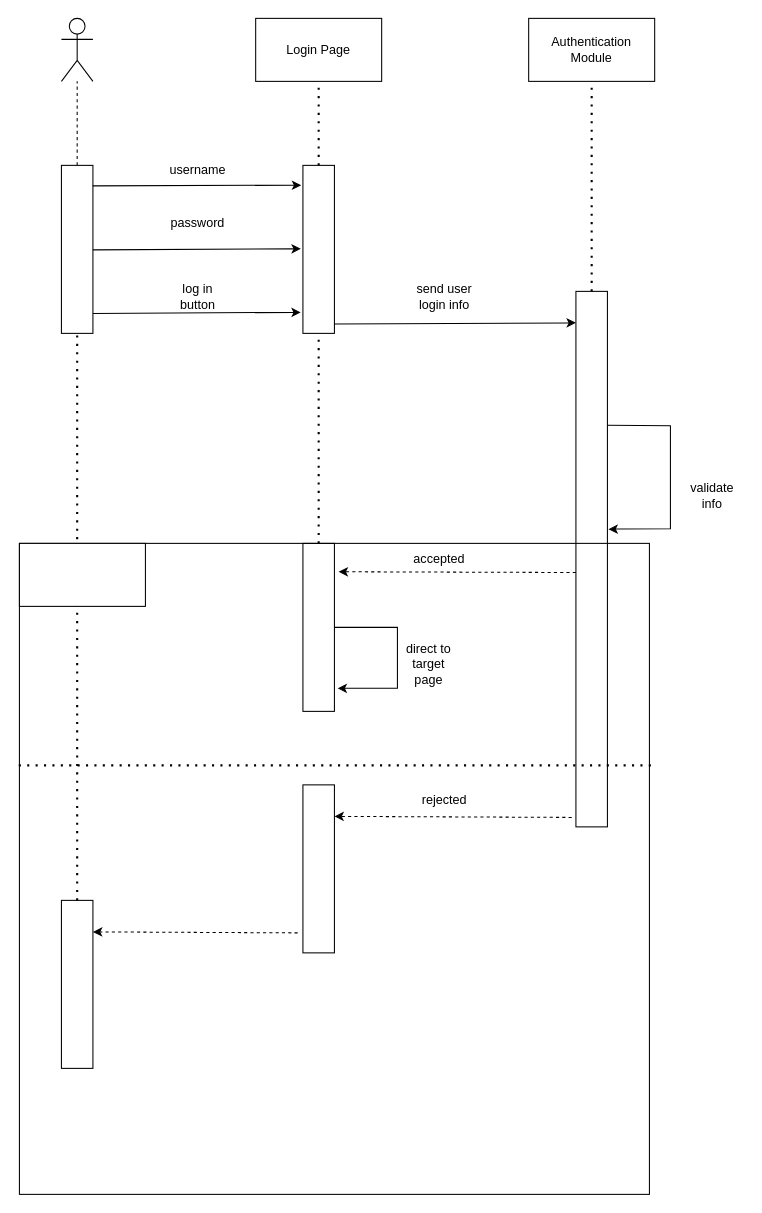
The diagram is 762 pixels wide and 1213 high, and some of its shapes have lost their labels. The shapes that lost their labels are listed below. From the top down, each one's centre as x and y in pixels, then its label:
the point at 76,49: User
the point at 81,574: Alterntive
